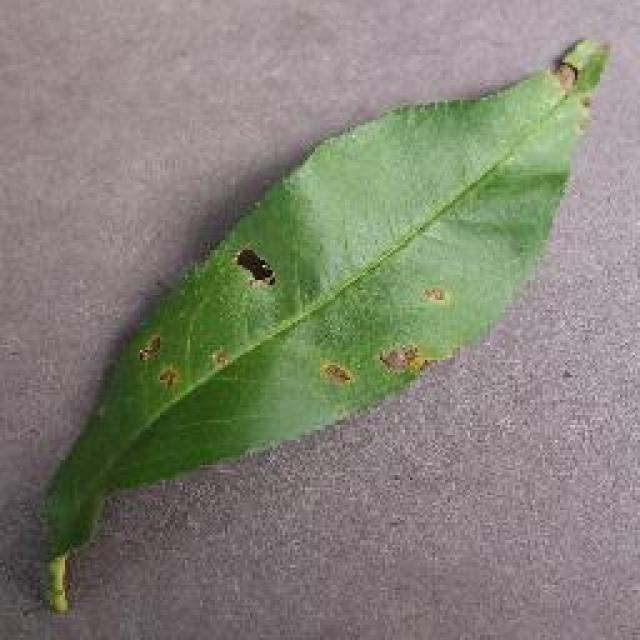Bacterial_spot: (319, 267, 474, 400), (130, 332, 198, 398), (549, 46, 600, 99)
